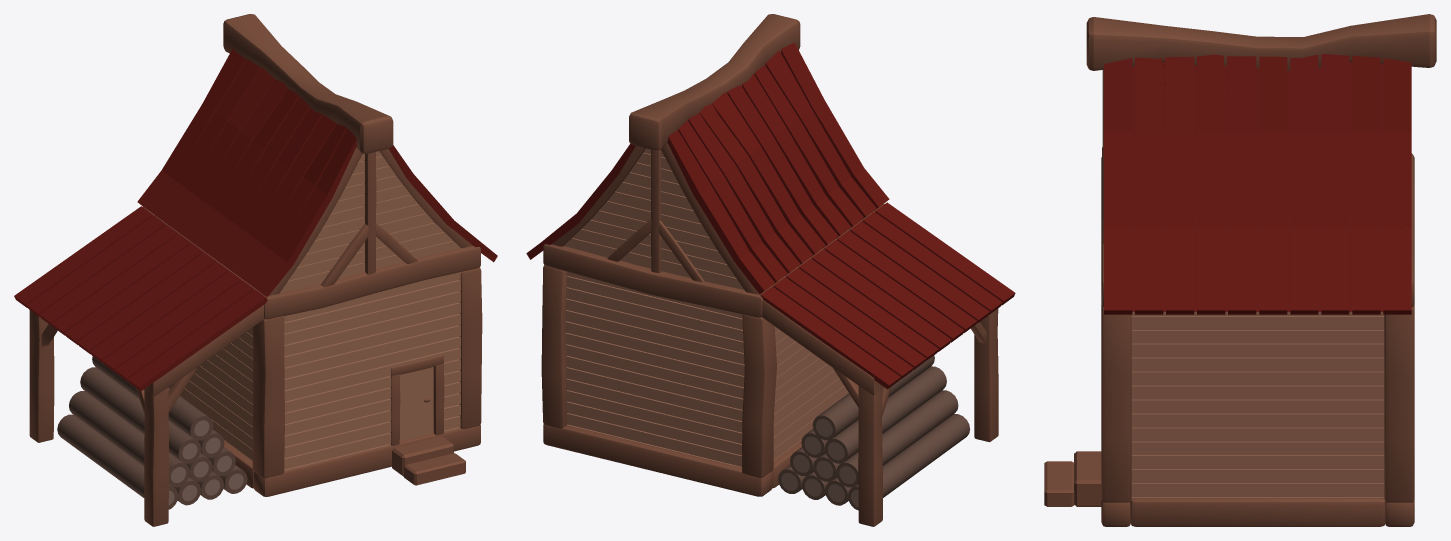
Rendered from WoodcutterHouse.fbx.
3 renders of one model, left to right at view 1: azimuth 30°, elevation 25°; view 2: azimuth 150°, elevation 25°; view 3: azimuth 270°, elevation 25°, orthographic. The views are drawn at different scales.
Parts seen in each view (by area): view 1: Cube.018, Cube.037, Wall4, Wall4.001, Cube.016, Wall, Cube.003, Cube, Cube.002, Cube.001, Cube.028, Cube.029 (+17 smaller); view 2: Cube.018, Wall2, Cube.037, Wall4.002, Cube.016, Cube.006, Cube.007, Wall, Cube.004, Cube.005, Cube.029, Cylinder.004 (+14 smaller); view 3: Cube.017, Wall3, Cube.016, Plane.007, Cube.008, Cube.005, Cube.001, WallRight, Cube.038, Cube.039, Cube.002, Cube.006 (+1 smaller).
Boxes of the visible parts, x1,y1,x2,y2 form: Cube.018: [137, 48, 356, 296]; Cube.037: [14, 206, 267, 390]; Wall4: [284, 272, 461, 471]; Wall4.001: [280, 151, 460, 292]; Cube.016: [223, 14, 393, 153]; Wall: [168, 327, 252, 461]; Cube.003: [258, 246, 480, 319]; Cube: [252, 316, 284, 478]; Cube.002: [253, 425, 480, 496]; Cube.001: [459, 267, 482, 429]; Cube.028: [144, 387, 169, 526]; Cube.029: [29, 310, 54, 442]; Cube.018: [667, 42, 889, 294]; Wall2: [565, 271, 744, 467]; Cube.037: [760, 202, 1015, 389]; Wall4.002: [564, 148, 743, 289]; Cube.016: [629, 14, 800, 150]; Cube.006: [543, 424, 772, 496]; Cube.007: [543, 244, 768, 317]; Wall: [773, 326, 858, 460]; Cube.004: [742, 314, 776, 477]; Cube.005: [541, 265, 567, 428]; Cube.029: [858, 386, 882, 526]; Cylinder.004: [836, 390, 958, 487]; Cube.017: [1104, 54, 1411, 314]; Wall3: [1130, 312, 1384, 500]; Cube.016: [1086, 14, 1436, 70]; Plane.007: [1132, 62, 1383, 311]; Cube.008: [1130, 498, 1385, 526]; Cube.005: [1384, 304, 1414, 502]; Cube.001: [1101, 304, 1131, 502]; WallRight: [1131, 315, 1384, 497]; Cube.038: [1074, 451, 1101, 506]; Cube.039: [1044, 461, 1074, 506]; Cube.002: [1101, 499, 1130, 526]; Cube.006: [1385, 499, 1414, 526].
Bounding box in the file's own units: 327 × 315 × 251.
